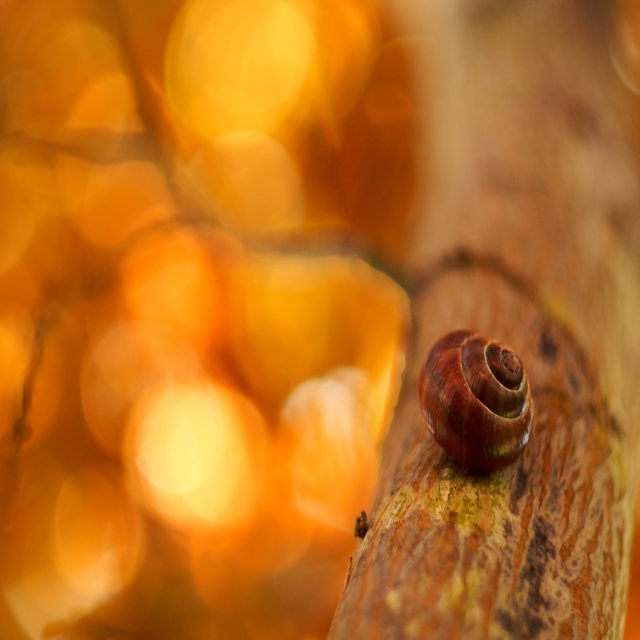Snail: (417, 327, 538, 473)
